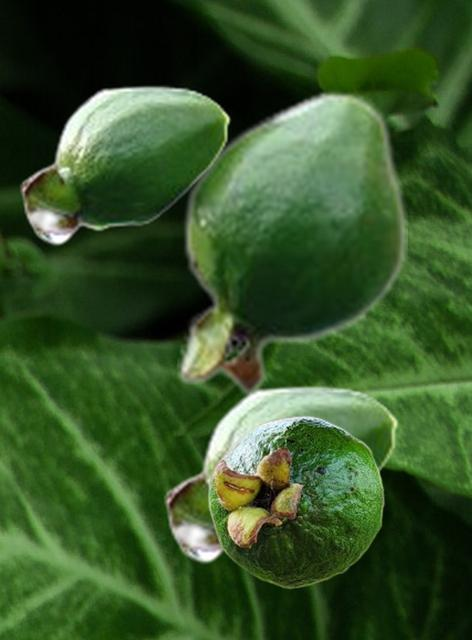guava: (177, 89, 406, 395), (164, 384, 398, 563), (20, 84, 230, 245), (207, 415, 384, 588)
